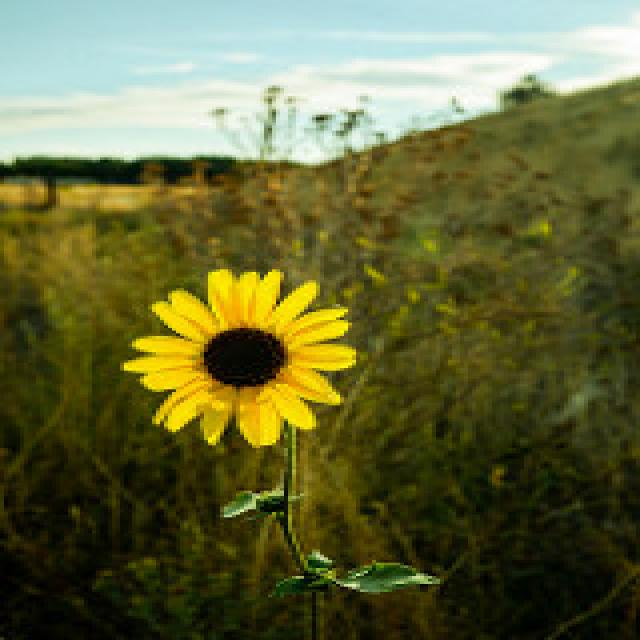sunflower: (118, 258, 366, 451)
